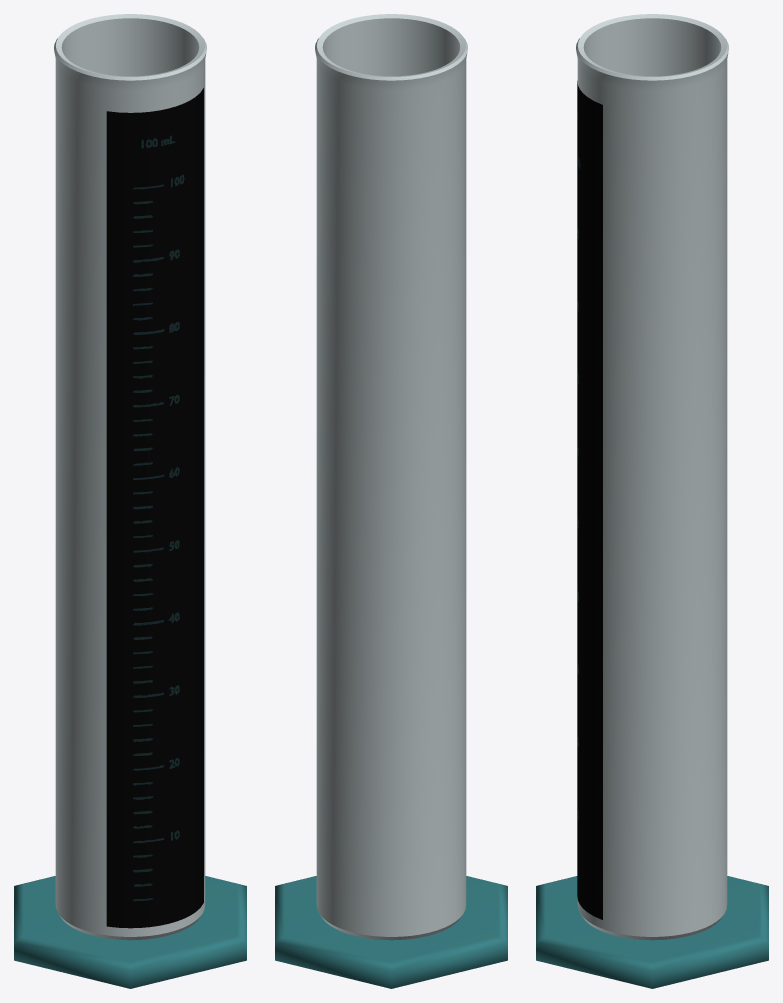
Rendered from VLAB_cylinder.fbx.
3 renders of one model, left to right at view 1: azimuth 30°, elevation 25°; view 2: azimuth 150°, elevation 25°; view 3: azimuth 270°, elevation 25°, orthographic.
Visible parts, largest first — view 1: VLAB_cylinder_Scale_VIS, VLAB_cylinder_Body_VIS, VLAB_cylinder_Foot_VIS; view 2: VLAB_cylinder_Body_VIS, VLAB_cylinder_Foot_VIS; view 3: VLAB_cylinder_Body_VIS, VLAB_cylinder_Scale_VIS, VLAB_cylinder_Foot_VIS.
Part boxes in pixels (bbox=[...]): VLAB_cylinder_Scale_VIS: bbox=[106, 88, 203, 928]; VLAB_cylinder_Body_VIS: bbox=[54, 14, 206, 940]; VLAB_cylinder_Foot_VIS: bbox=[14, 876, 246, 988]; VLAB_cylinder_Body_VIS: bbox=[315, 14, 467, 940]; VLAB_cylinder_Foot_VIS: bbox=[275, 876, 507, 988]; VLAB_cylinder_Body_VIS: bbox=[576, 14, 728, 940]; VLAB_cylinder_Scale_VIS: bbox=[577, 81, 602, 919]; VLAB_cylinder_Foot_VIS: bbox=[536, 876, 768, 988].
Bounding box in the file's own units: 0.0547 × 0.2 × 0.0474.
